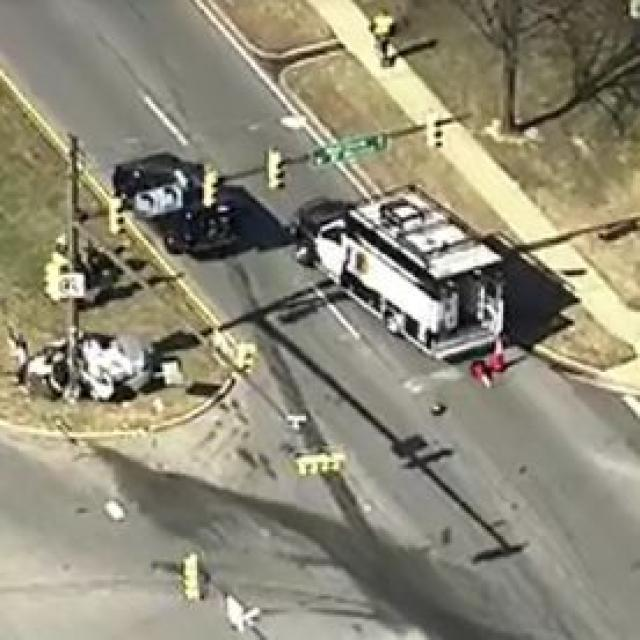traffic_incident: (0, 300, 155, 404)
